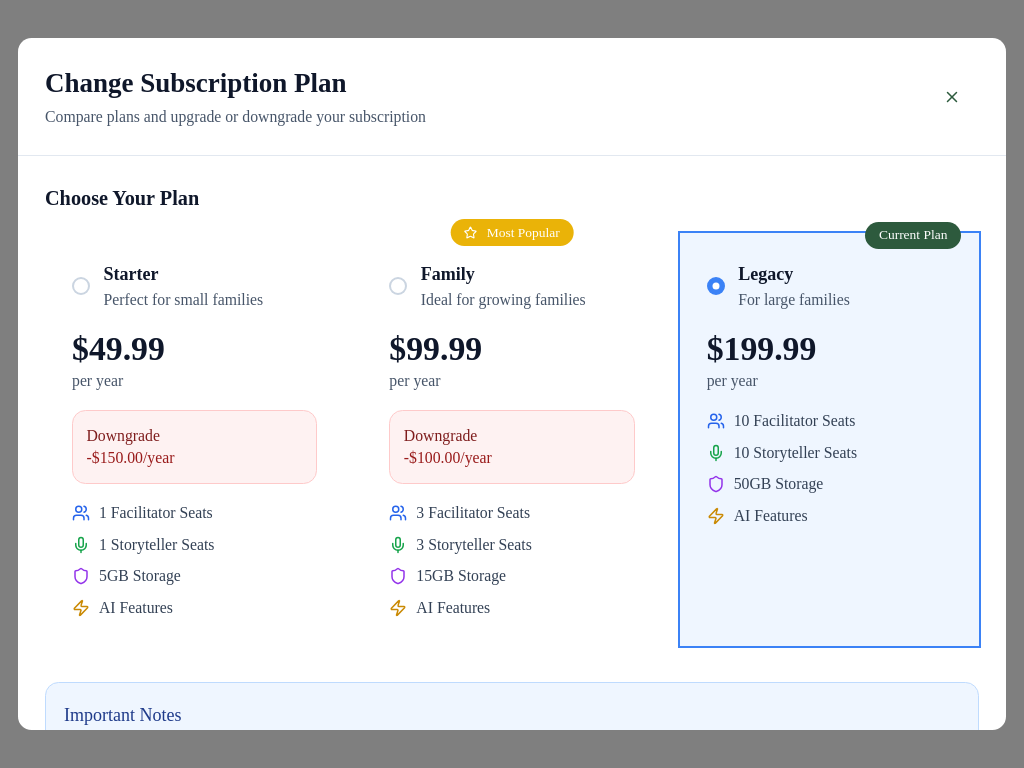
SubscriptionUpgradeModal › Plan Selection › shows downgrade option for cheaper plans
Note: Click on Starter plan (cheaper)
Click the text "Starter" at [131, 274], box [104, 260, 263, 311]
(page scrolled)
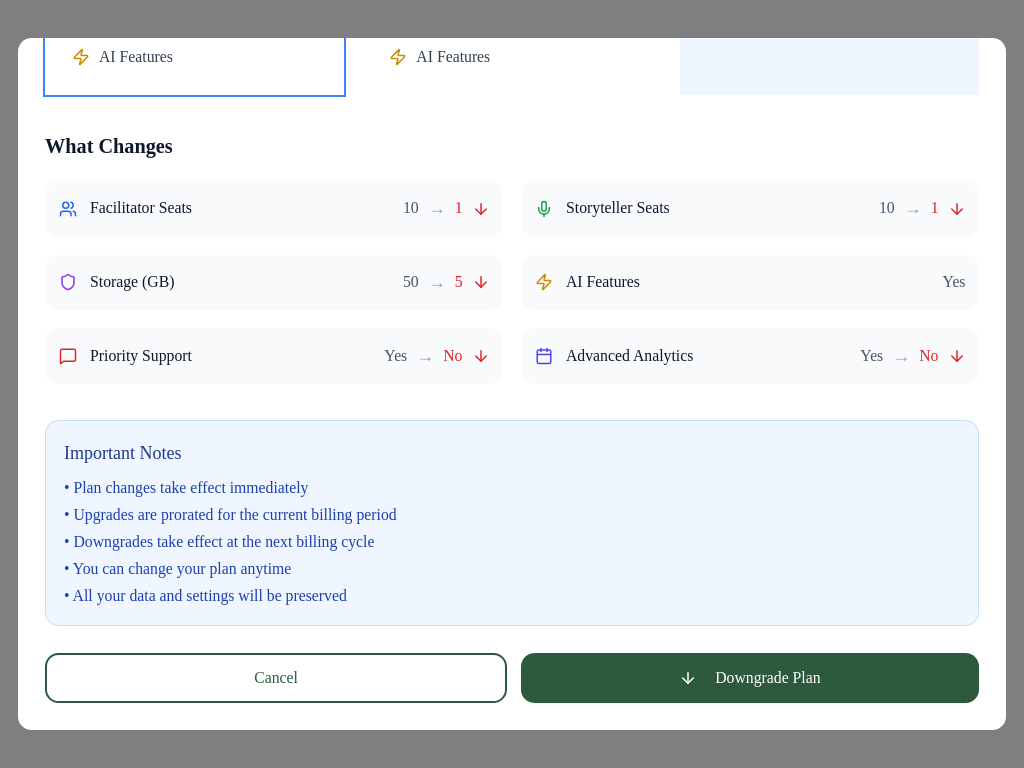
Expected: the button "Downgrade Plan" is shown, [521, 653, 979, 703]
